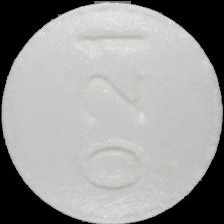0555-9050: (0, 0, 224, 224)
